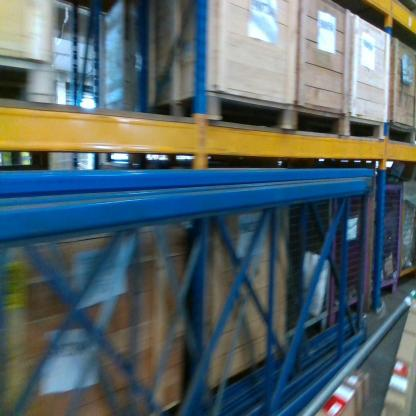stillage: (283, 199, 330, 345), (330, 192, 369, 327), (371, 176, 403, 295), (399, 173, 416, 285)
